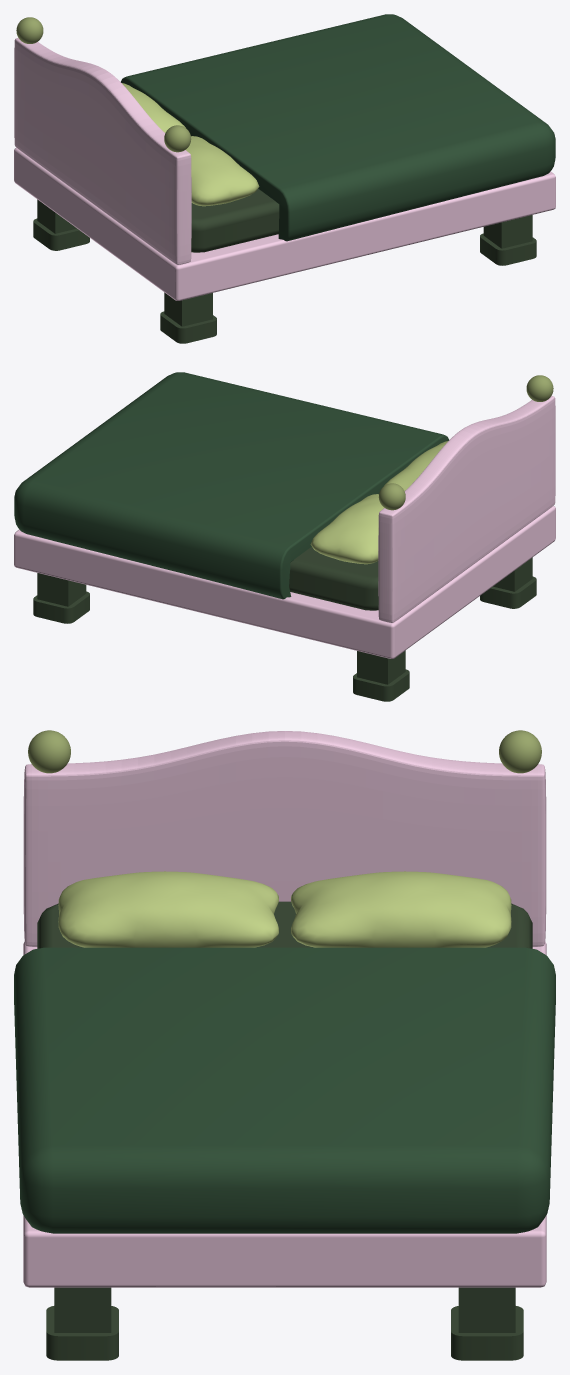
Rendered from bed.fbx.
3 views of the same model, one above another, from view 1: azimuth 30°, elevation 25°; view 2: azimuth 150°, elevation 25°; view 3: azimuth 270°, elevation 25° (orthographic). The views are drawn at different scales.
Visible parts, largest first — view 1: bed.004, bed.001, bed.002, bed leg, pillow, bed.003, bed; view 2: bed.004, bed.001, bed.002, bed leg, pillow, bed.003, bed; view 3: bed.004, bed.001, pillow, bed.002, bed leg, bed.003, bed.
Boxes of the visible parts, x1,y1,x2,y2 form: bed.004: [121, 14, 555, 241]; bed.001: [14, 37, 191, 264]; bed.002: [14, 148, 555, 300]; bed leg: [33, 199, 536, 343]; pillow: [122, 83, 259, 206]; bed.003: [191, 188, 279, 252]; bed: [16, 17, 191, 152]; bed.004: [14, 372, 448, 599]; bed.001: [378, 395, 555, 622]; bed.002: [14, 506, 555, 658]; bed leg: [33, 557, 536, 701]; pillow: [310, 441, 447, 564]; bed.003: [289, 546, 378, 610]; bed: [378, 375, 553, 510]; bed.004: [14, 947, 555, 1233]; bed.001: [23, 731, 546, 946]; pillow: [58, 871, 511, 947]; bed.002: [23, 941, 546, 1287]; bed leg: [46, 1287, 523, 1360]; bed.003: [37, 901, 532, 948]; bed: [28, 730, 541, 773].
Bounding box in the file's own units: 514 × 276 × 390.
